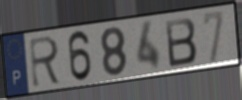4: (135, 18, 164, 74)
6: (66, 29, 93, 83)
7: (202, 10, 227, 65)
8: (99, 25, 129, 77)
B: (163, 16, 199, 69)
R: (28, 34, 63, 90)
